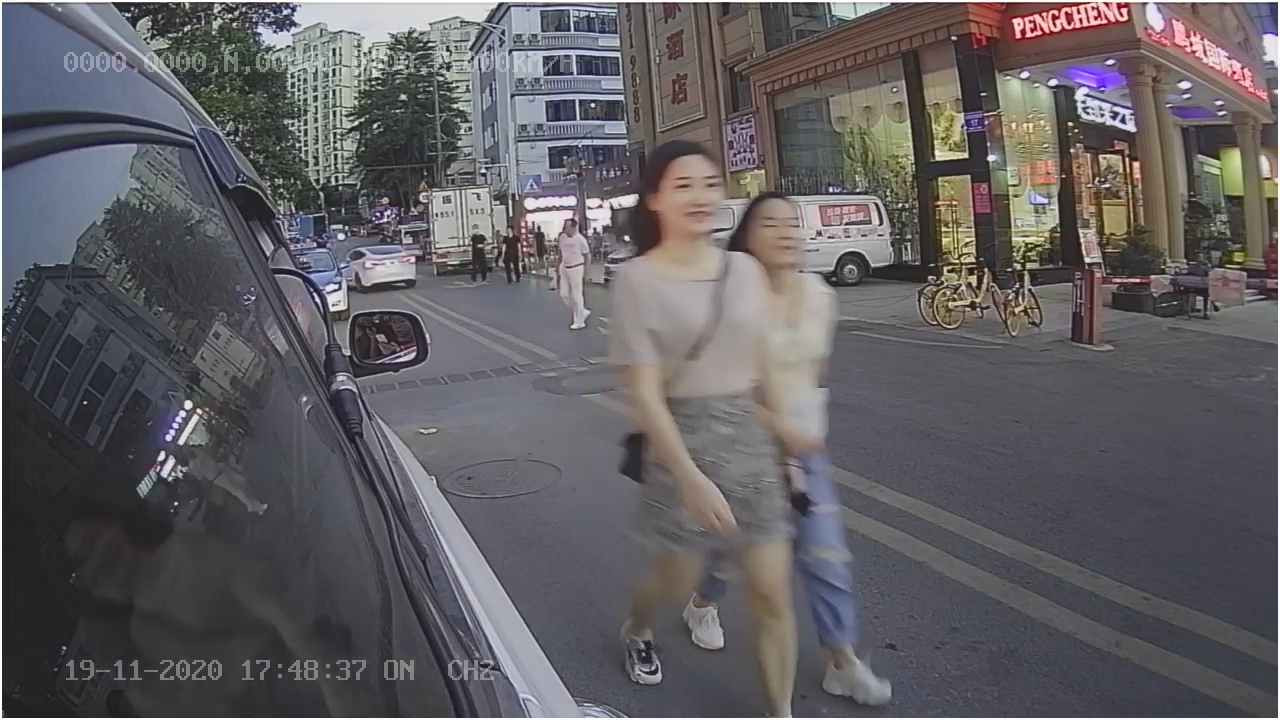person: (609, 148, 825, 680)
